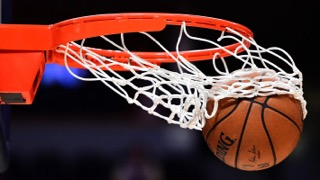MadeBasket: (49, 12, 308, 171)
